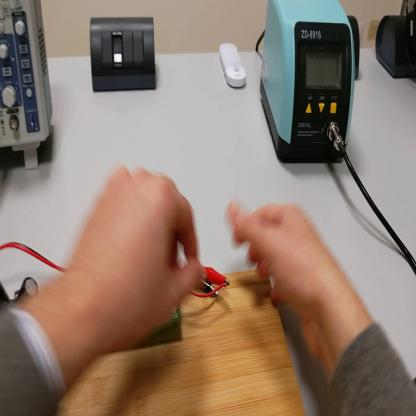hand: (69, 162, 204, 344), (227, 200, 334, 346)
high voltage board: (3, 254, 225, 342)
oscilloscope: (2, 4, 57, 171)
socket: (375, 16, 416, 80), (347, 15, 362, 82)
welder station: (261, 1, 358, 167)
working area: (57, 271, 308, 416)
